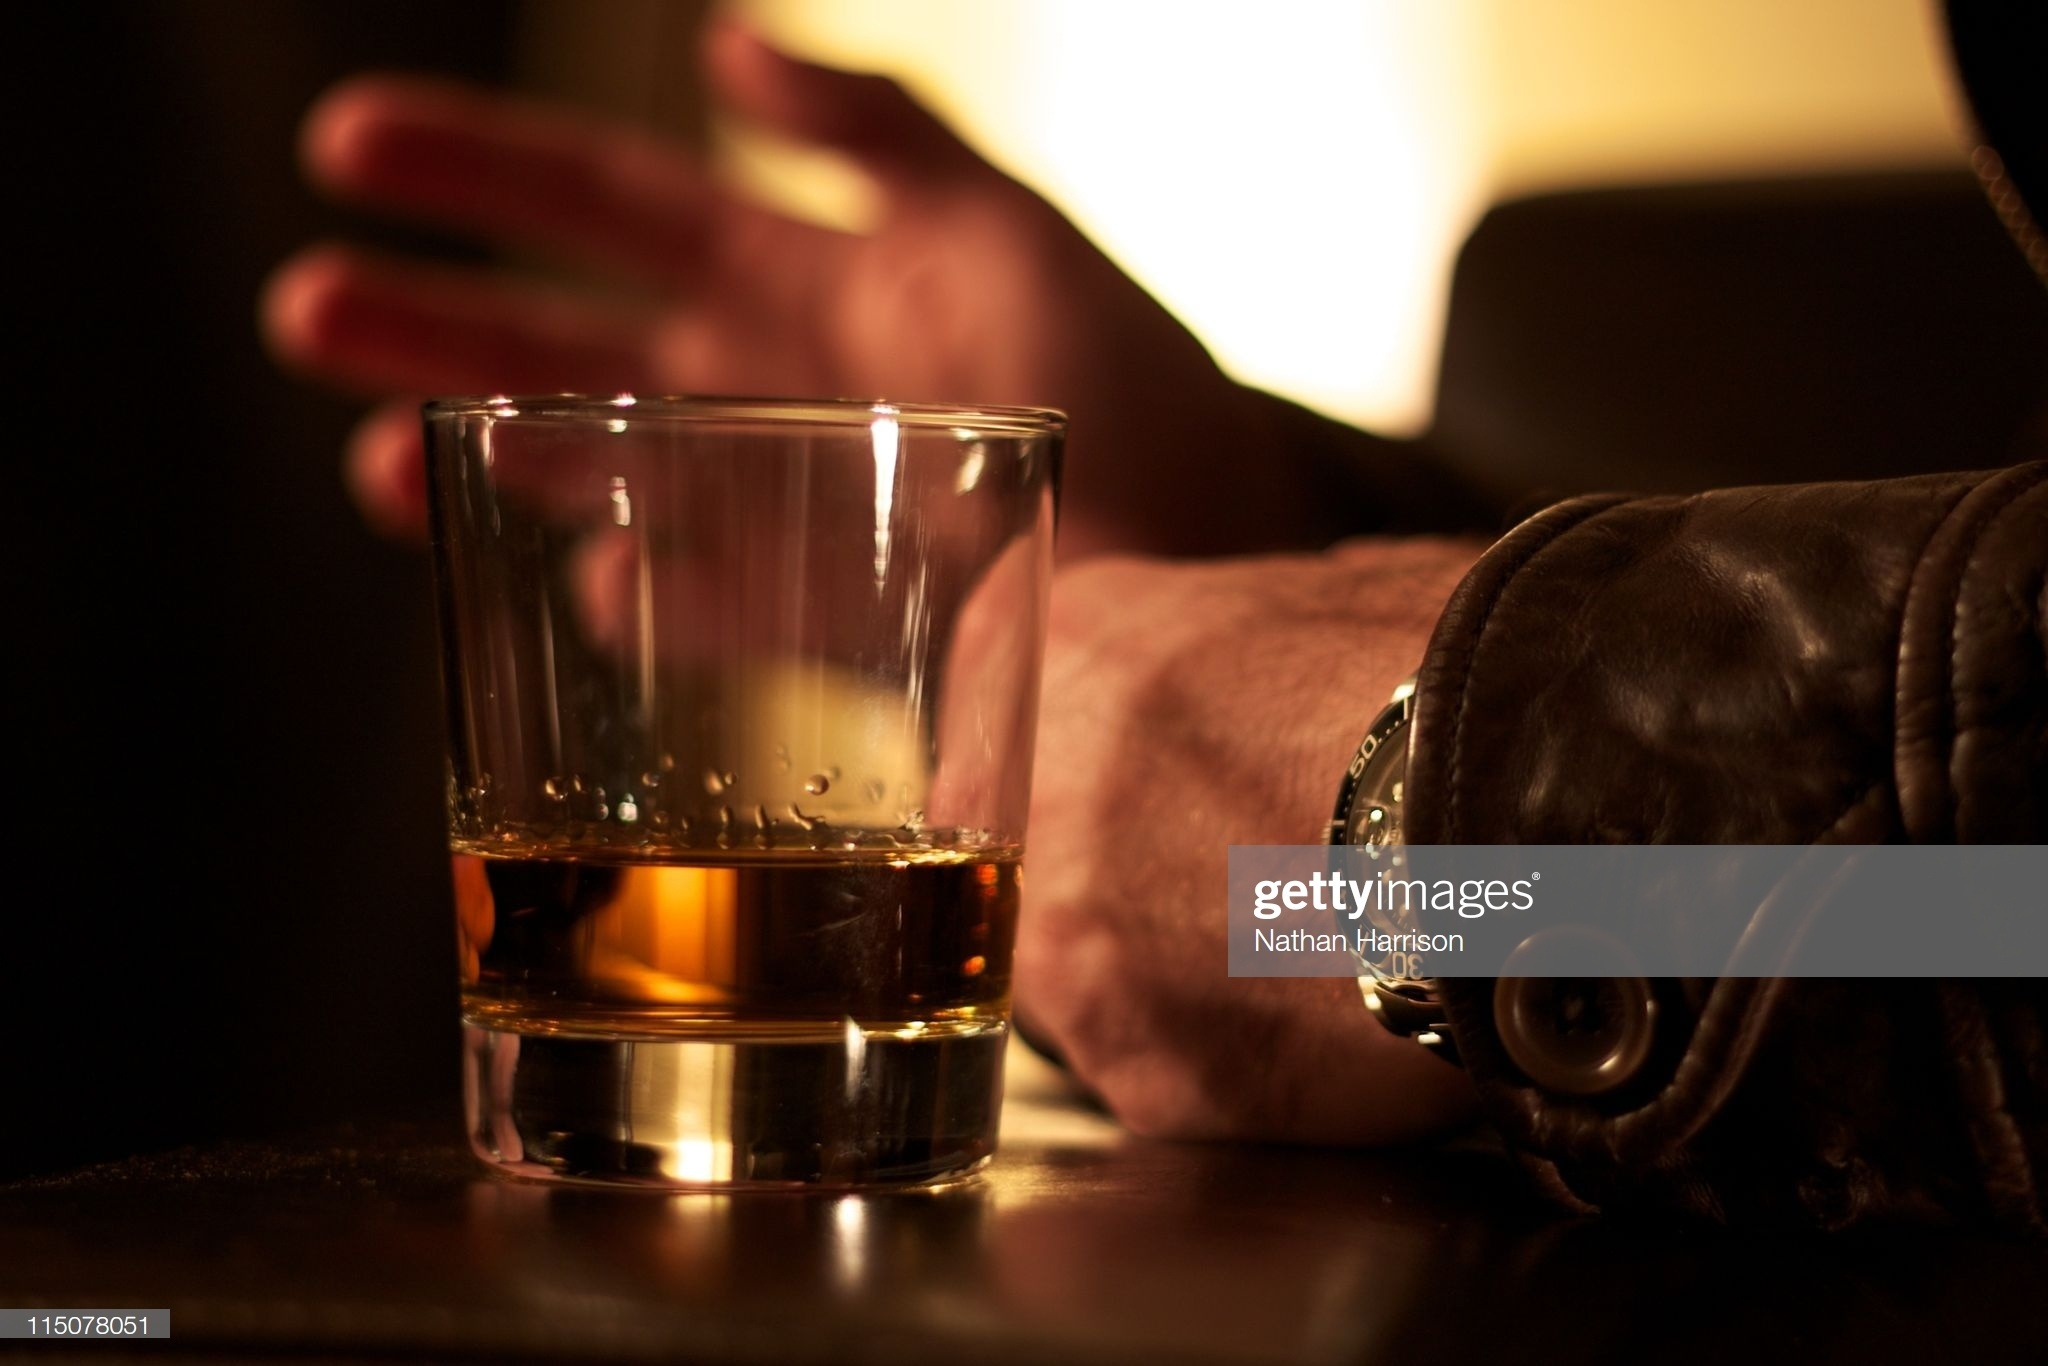whiskey: (433, 395, 1051, 1172)
